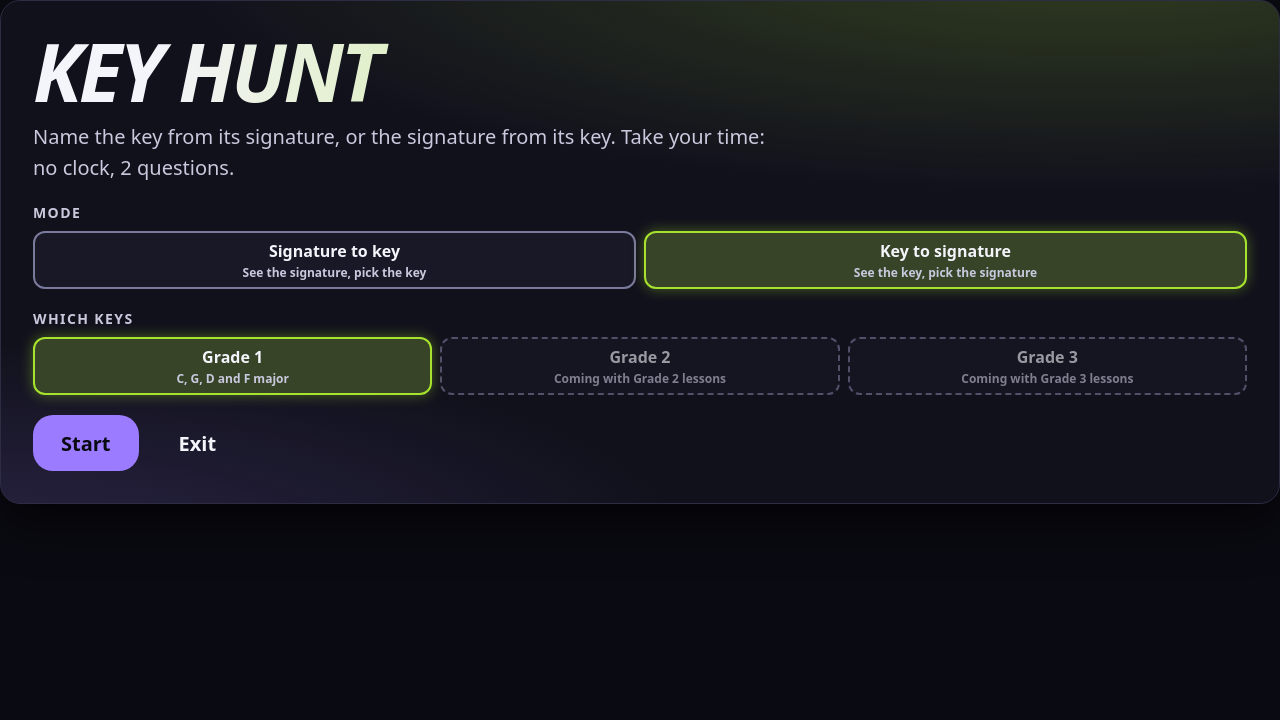
it: key to signature › shows the key name and staves as the options
Later steps or results of the test are not shown.
Click the button "Start" at (86, 443), box [33,415,138,471]
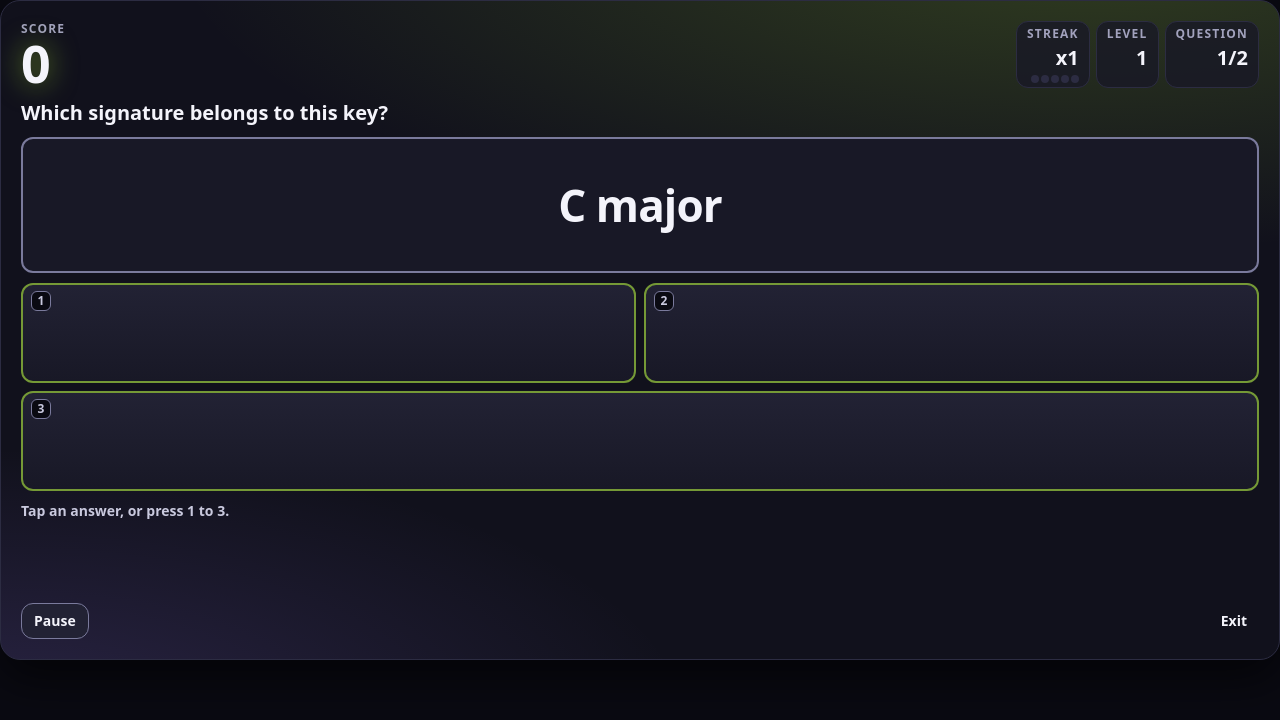
Now the heading with test id "kh-prompt" reads "Which signature belongs to this key?", box [21,99,388,126]
Now the element with test id "kh-exhibit" reads "C major", box [558,174,722,234]
Click the button named "No sharps or flats" at (664, 301), box [644,282,1259,382]
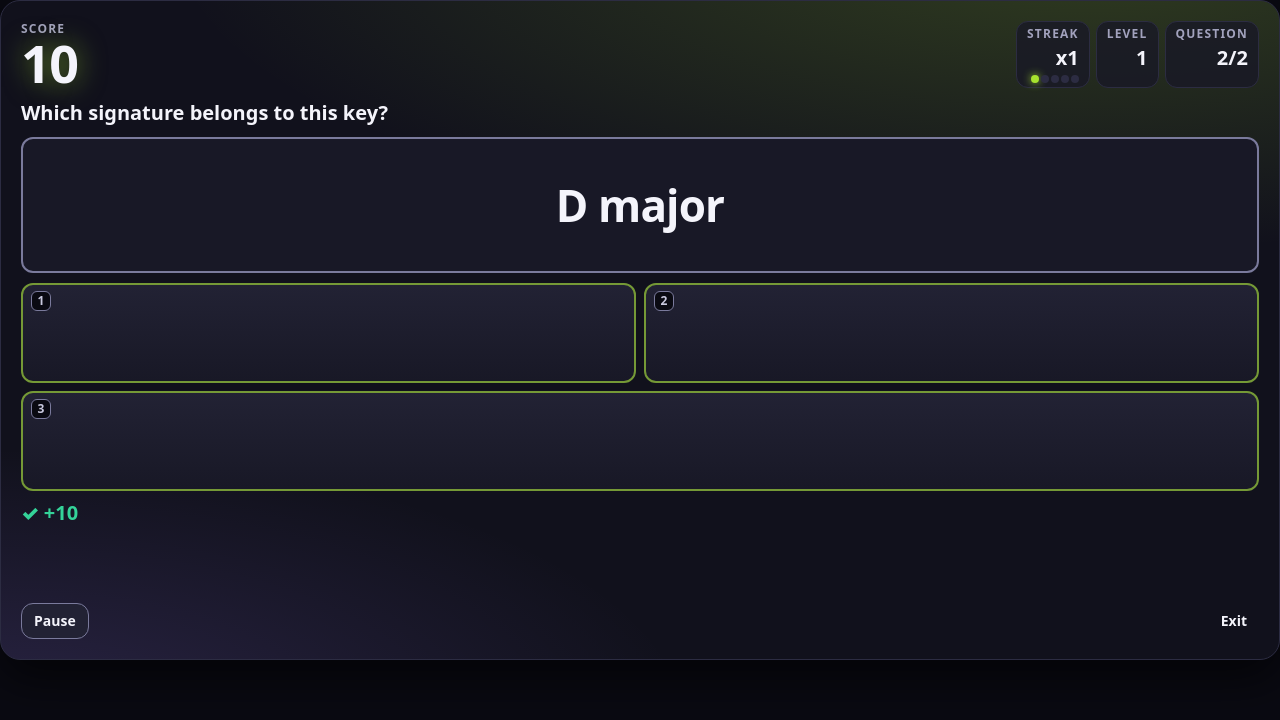
Now the text with test id "kh-score" reads "10", box [21,27,77,98]
Click the button named "One flat, B♭" at (41, 301), box [21,282,636,382]
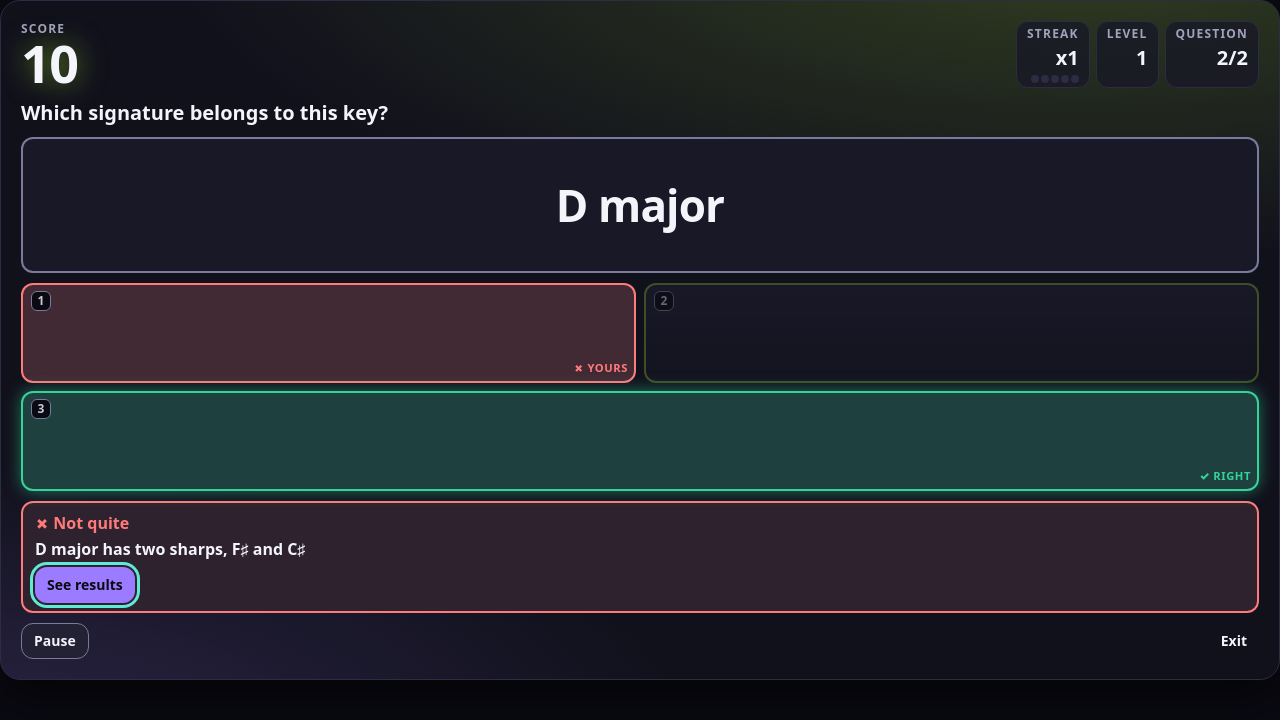
Now the text with test id "kh-reason" reads "D major has two sharps, F♯ and C♯", box [35,538,305,560]
